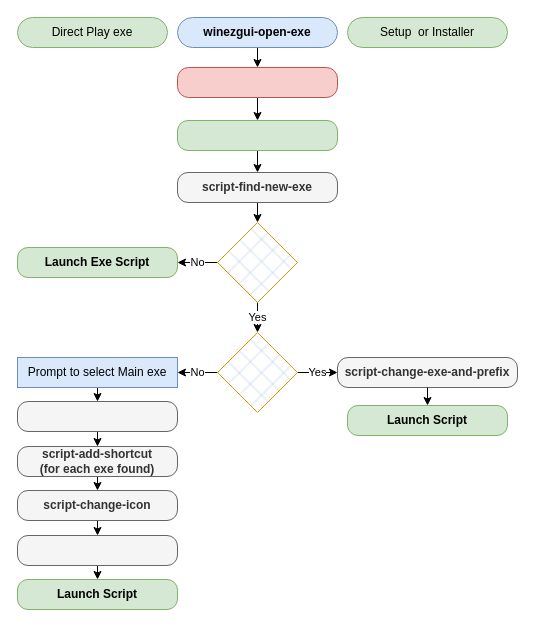
The diagram is 535 pixels wide and 627 high, and some of its shapes have lost their labels. Here are the shapes that lost their labels. From the top down, the centre of each, then its label:
(x=257, y=82): winezgui-create-prefix
(x=257, y=135): script-launch
(x=257, y=262): Found New Exe
(x=257, y=372): Only 1 Exe
(x=97, y=416): script-change-exe
(x=97, y=550): script-change-prefix
